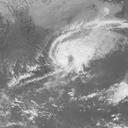cyclone: (48, 27, 97, 77)
